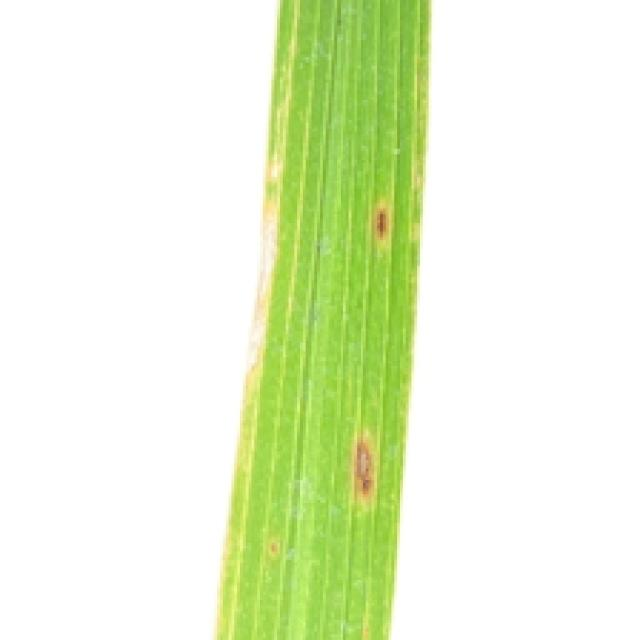Rice___Rice_Blast: (215, 0, 431, 637)
